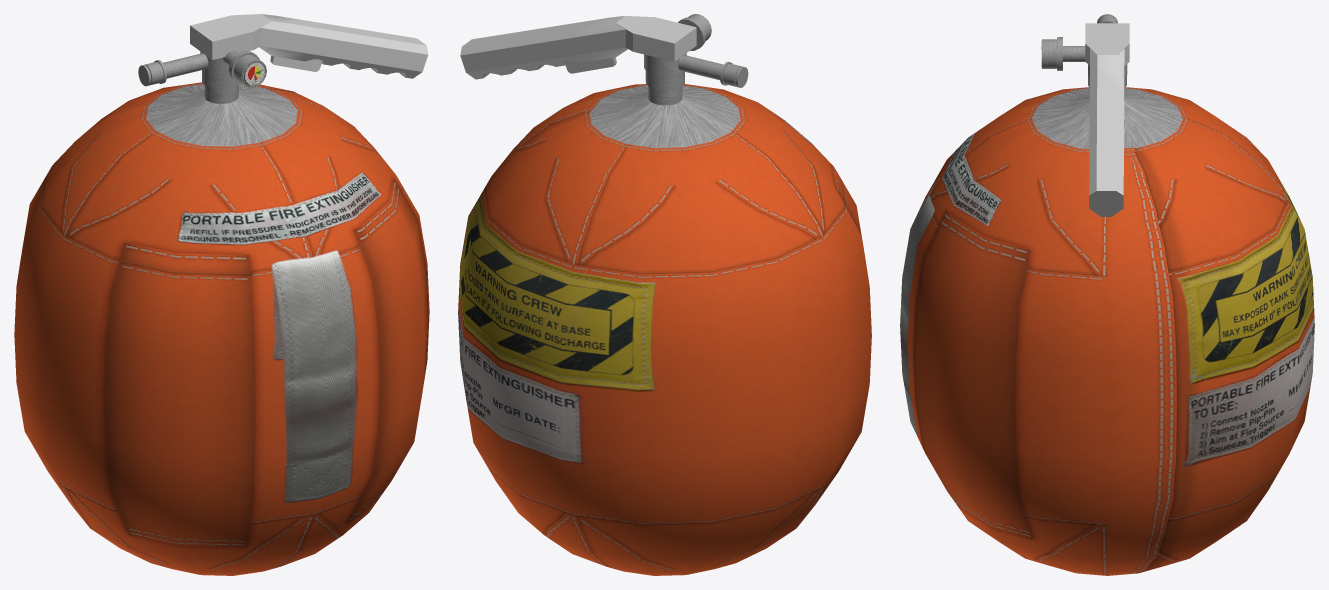
Rendered from CO2_PFE.glb.
3 renders of one model, left to right at view 1: azimuth 30°, elevation 25°; view 2: azimuth 150°, elevation 25°; view 3: azimuth 270°, elevation 25°, orthographic.
Visible parts, largest first — view 1: Bottle, Handle, Nozzle, Neck, GaugeBase; view 2: Bottle, Handle, Neck, Nozzle, GaugeBase, Trigger; view 3: Bottle, Handle, GaugeBase.
Boxes of the visible parts, left/top/right/bottom form: Bottle: left=14, top=82, right=429, bottom=575; Handle: left=190, top=14, right=428, bottom=78; Nozzle: left=138, top=53, right=208, bottom=86; Neck: left=200, top=51, right=239, bottom=103; GaugeBase: left=223, top=50, right=266, bottom=87; Bottle: left=458, top=84, right=871, bottom=575; Handle: left=460, top=15, right=696, bottom=79; Neck: left=644, top=53, right=686, bottom=105; Nozzle: left=678, top=55, right=748, bottom=87; GaugeBase: left=678, top=14, right=711, bottom=50; Trigger: left=565, top=57, right=616, bottom=73; Bottle: left=900, top=87, right=1314, bottom=575; Handle: left=1085, top=23, right=1129, bottom=216; GaugeBase: left=1042, top=37, right=1085, bottom=70.
Size of the model in its own units: 0.2551 by 0.3412 by 0.243.
4 materials, 3 textured.
